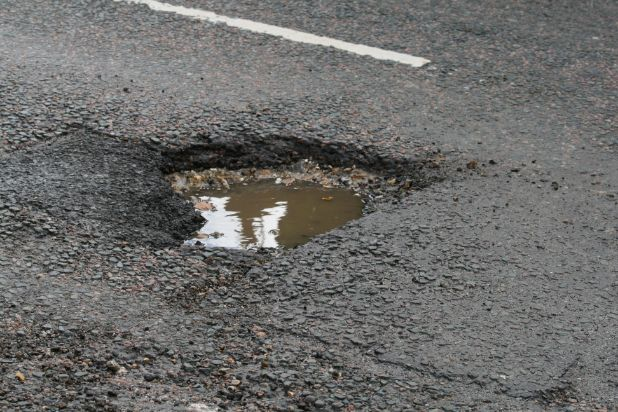pothole: (146, 127, 452, 264)
